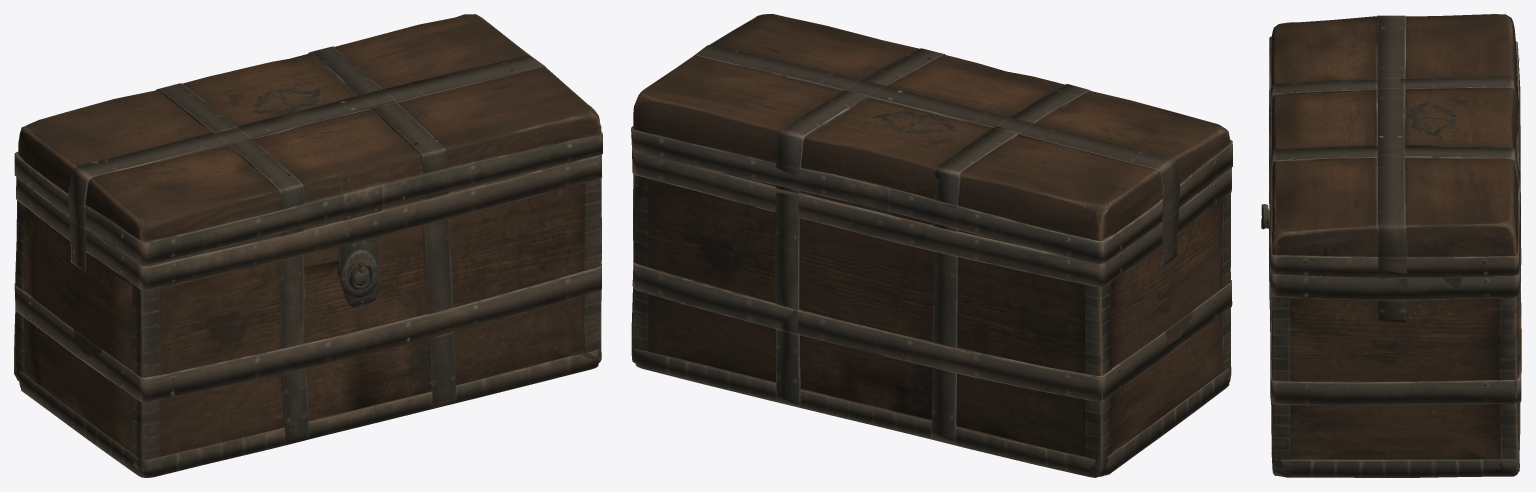
File: treasure_chest.glb
3 renders of one model, left to right at view 1: azimuth 30°, elevation 25°; view 2: azimuth 150°, elevation 25°; view 3: azimuth 270°, elevation 25°, orthographic. The views are drawn at different scales.
Parts seen in each view (by area): view 1: Soulbound_Treasure_Chest; view 2: Soulbound_Treasure_Chest; view 3: Soulbound_Treasure_Chest.
Part boxes in pixels (x1=…): Soulbound_Treasure_Chest: x1=14, y1=14, x2=602, y2=477; Soulbound_Treasure_Chest: x1=631, y1=14, x2=1232, y2=477; Soulbound_Treasure_Chest: x1=1261, y1=14, x2=1521, y2=477.
Bounding box in the file's own units: 1.1 × 0.6 × 0.5589.
Materials: 1 (1 with a texture image).
